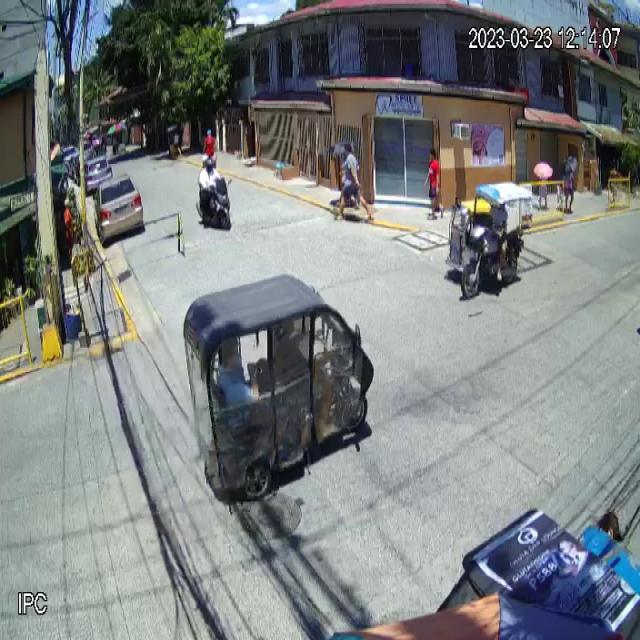Car: (93, 172, 144, 241)
Motorcycle: (196, 178, 233, 230)
Tricycle: (446, 180, 534, 302)
